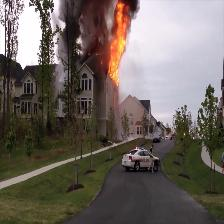fire: (110, 10, 129, 70)
smoke: (60, 3, 106, 47)
